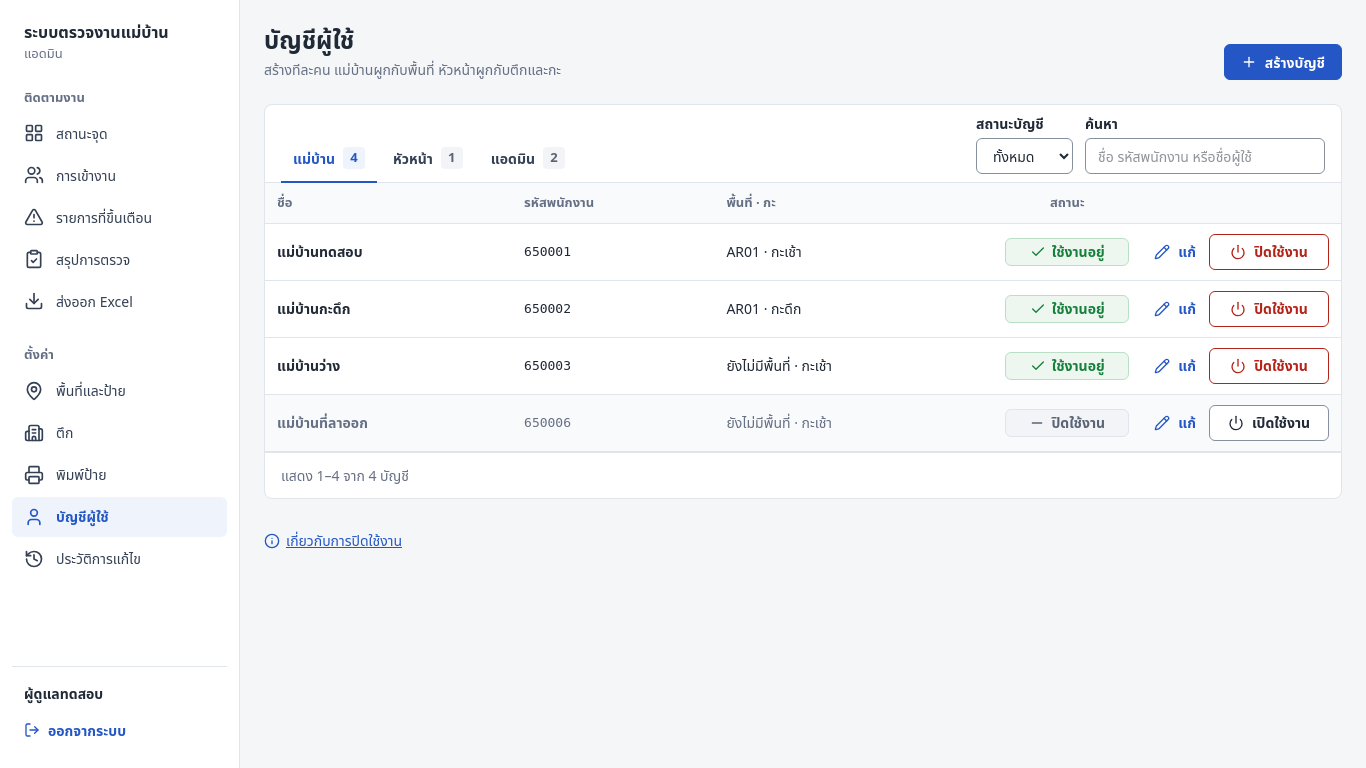
Test: AccountsPage (D6, facility-0020, 0056) › starts at counted Cleaner tabs, with truthful places and no phone column
Expected: the column headings read "ชื่อ", "รหัสพนักงาน", "พื้นที่ · กะ", "สถานะ", "การกระทำ", in this order, [265, 183, 512, 223]; [512, 183, 714, 223]; [714, 183, 993, 223]; [993, 183, 1141, 223]; [1141, 183, 1341, 223]
Expected: the text "แสดง 1–4 จาก 4 บัญชี" is shown, [265, 452, 1341, 498]
Click the tab "หัวหน้า 1". click: (428, 159)
box: [381, 135, 475, 183]
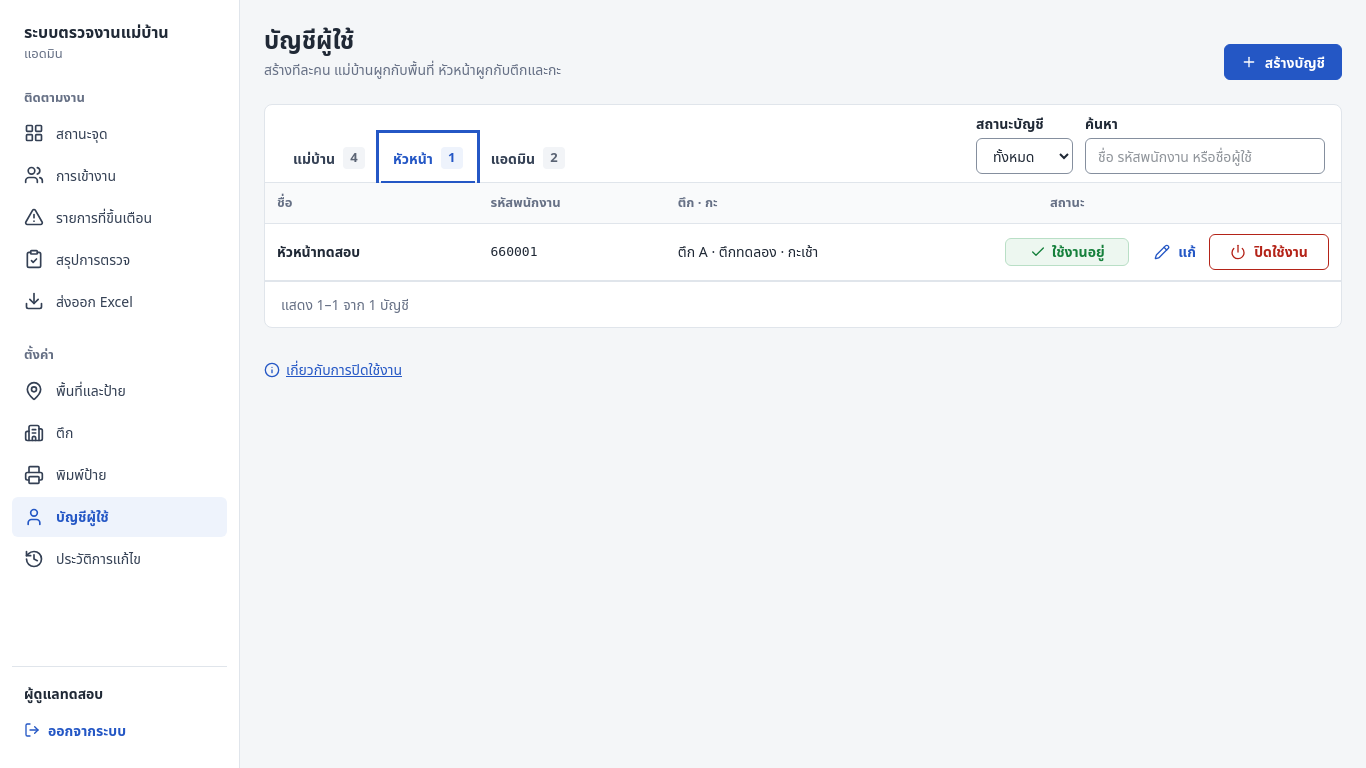
Expected: the column heading "รหัสพนักงาน" is shown, [478, 183, 666, 223]
Result: the text "ตึก A · ตึกทดลอง · กะเช้า" is shown at [666, 223, 993, 280]
Result: the column heading "ตึก · กะ" is shown at [666, 183, 993, 223]
Click the tab "แอดมิน 2". click: (528, 159)
box: [479, 135, 577, 183]
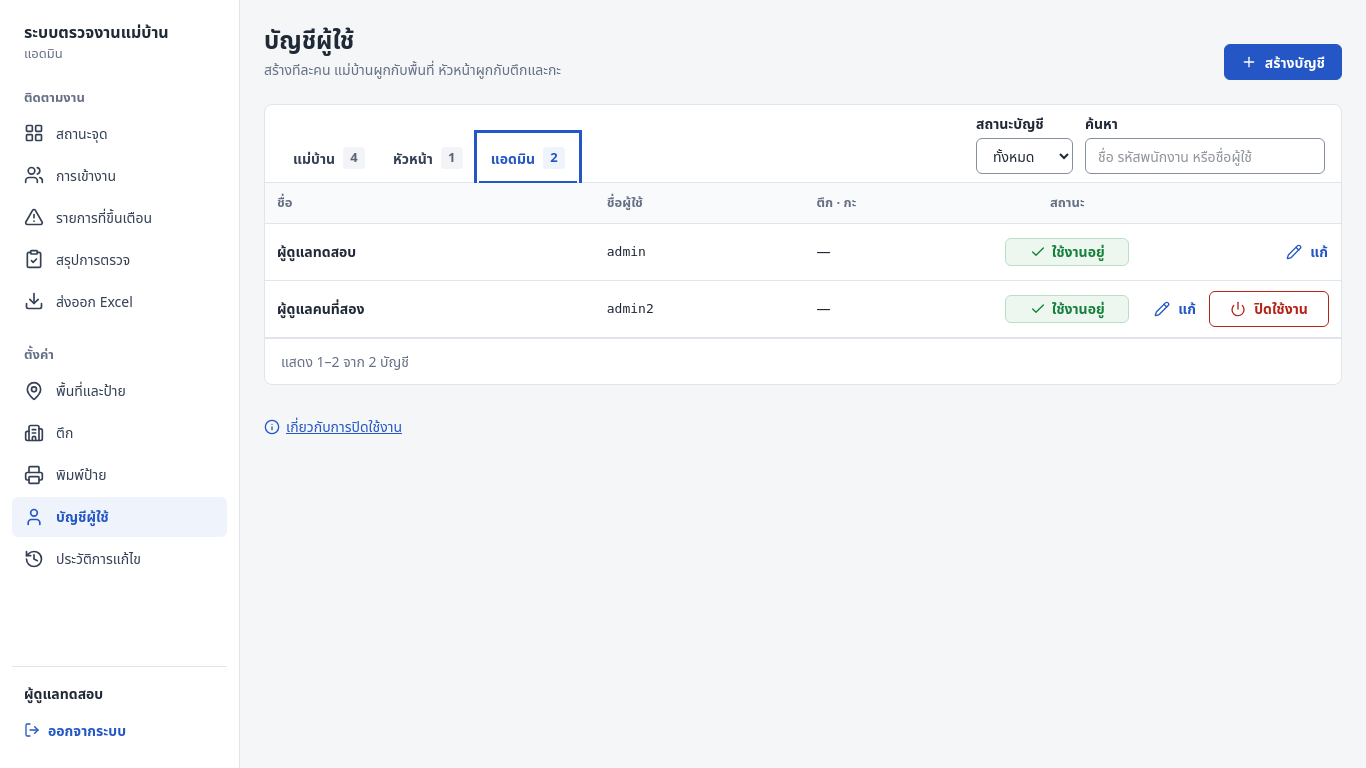
Result: the button with aria-label "แก้ไข ผู้ดูแลคนที่สอง" is shown at [1153, 291, 1197, 327]
Result: the column heading "ชื่อผู้ใช้" is shown at [595, 183, 805, 223]
